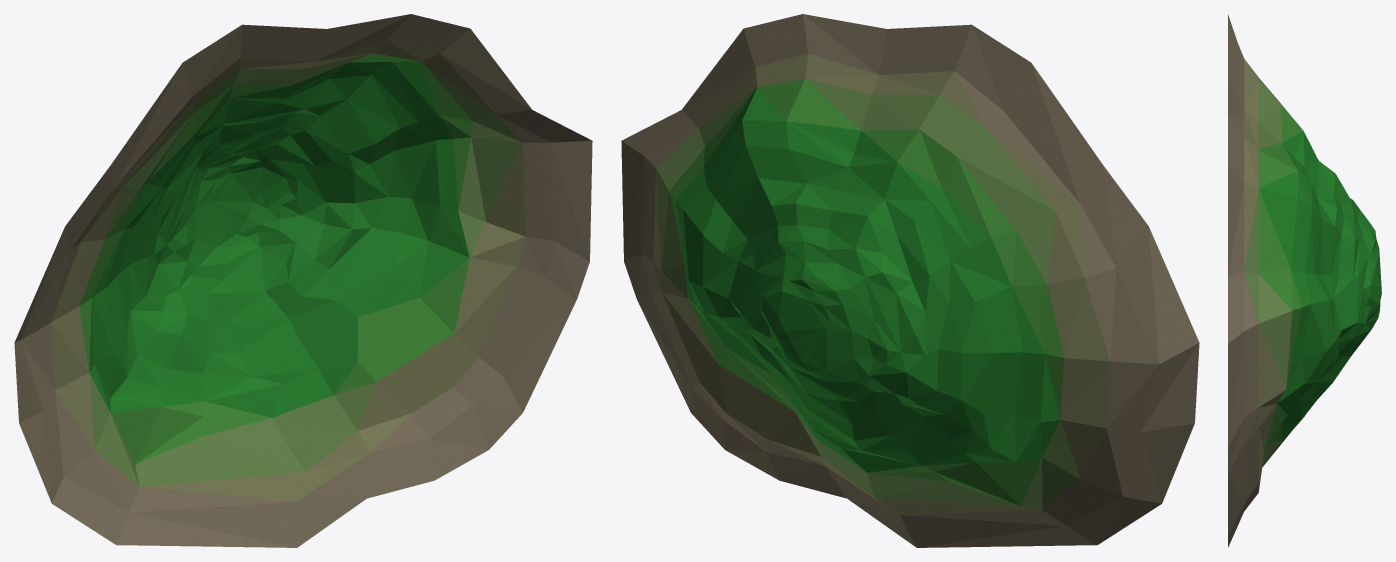
Rendered from land_1.FBX.
3 renders of one model, left to right at view 1: azimuth 30°, elevation 25°; view 2: azimuth 150°, elevation 25°; view 3: azimuth 270°, elevation 25°, orthographic. The views are drawn at different scales.
Parts seen in each view (by area): view 1: Icosphere; view 2: Icosphere; view 3: Icosphere.
Part boxes in pixels (x1,y1,x2,y2): Icosphere: (14, 14, 592, 547); Icosphere: (621, 14, 1199, 547); Icosphere: (1228, 14, 1381, 547).
Size of the model in its own units: 13152 by 11667 by 3472.
